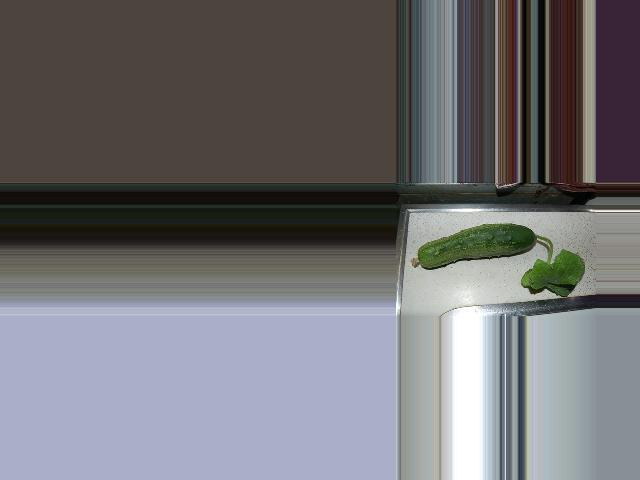cucumber: (410, 223, 537, 269)
